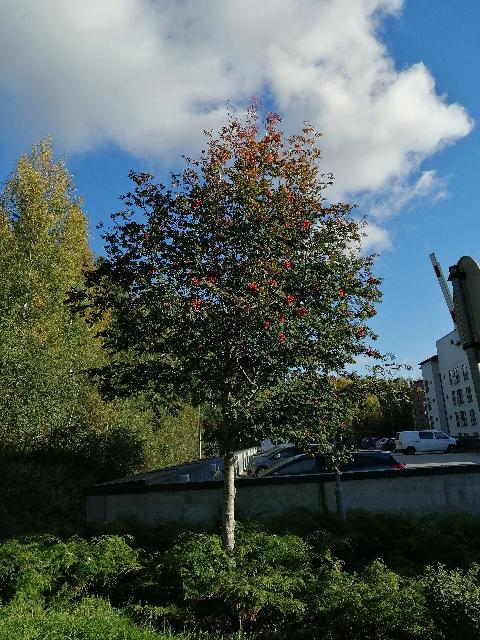rowan: (57, 90, 427, 590)
